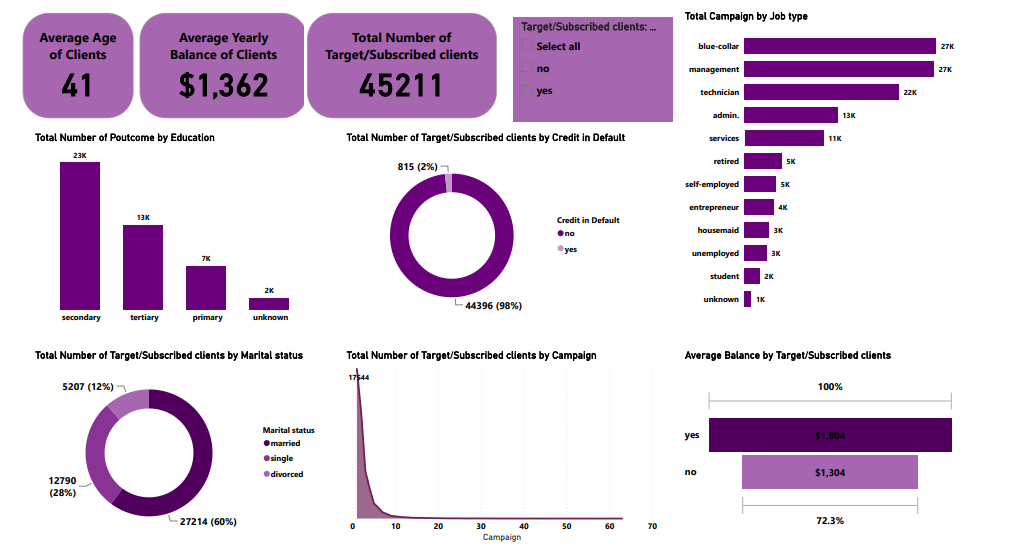

The page's visual inventory and layout, read from the dashboard file:
{"tool":"powerbi","page":{"name":"Page 1","canvas":[1600,900],"ordinal":0},"visuals":[{"type":"cardVisual","fields":{"Data":["Avg(bank-full.Age)"]},"box":[0,11.9,194,185.1],"z":0},{"type":"columnChart","fields":{"Category":["bank-full.Education"],"Y":["CountNonNull(bank-full.Poutcome)"]},"box":[20.9,213.4,477.6,326.9],"z":1000},{"type":"barChart","fields":{"Category":["bank-full.Job"],"Y":["Sum(bank-full.Campaign)"]},"box":[1098.5,11.9,456.7,513.4],"z":2000},{"type":"cardVisual","fields":{"Data":["Avg(bank-full.Balance)"]},"box":[194,11.9,289.6,185.1],"z":3000},{"type":"donutChart","fields":{"Category":["bank-full.Marital status"],"Y":["CountNonNull(bank-full.Y)"]},"box":[20.7,574.1,496.6,325.9],"z":4000},{"type":"stackedAreaChart","fields":{"Category":["bank-full.Campaign"],"Y":["CountNonNull(bank-full.Target/Subscribed clients)"]},"box":[537.3,574.6,526.9,325.4],"z":5000},{"type":"funnel","title":"Average Balance by Target/Subscribed clients","fields":{"Category":["bank-full.Subscribed clients"],"Y":["Avg(bank-full.Balance)"]},"box":[1098.3,574.1,456.9,325.9],"z":6000},{"type":"slicer","fields":{"Values":["bank-full.Subscribed clients"]},"box":[819.4,23.9,264.2,173.1],"z":7000},{"type":"donutChart","fields":{"Category":["bank-full.Credit in Default"],"Y":["CountNonNull(bank-full.Subscribed clients)"]},"box":[537.3,213.4,485.1,326.9],"z":8000},{"type":"cardVisual","fields":{"Data":["bank-full.Measure 2"]},"box":[471.6,11.9,325.4,185.1],"z":9000}]}

Visuals, with their boxes in screenshot pixels (x1, y1, x2, y2), scaled from the page's 1600x900 canvas onto the 1014x554 screenshot:
cardVisual - Avg(bank-full.Age): l=0, t=7, r=123, b=121
columnChart - bank-full.Education x CountNonNull(bank-full.Poutcome): l=13, t=131, r=316, b=333
barChart - bank-full.Job x Sum(bank-full.Campaign): l=696, t=7, r=986, b=323
cardVisual - Avg(bank-full.Balance): l=123, t=7, r=306, b=121
donutChart - bank-full.Marital status x CountNonNull(bank-full.Y): l=13, t=353, r=328, b=553
stackedAreaChart - bank-full.Campaign x CountNonNull(bank-full.Target/Subscribed clients): l=341, t=354, r=674, b=553
"Average Balance by Target/Subscribed clients" funnel: l=696, t=353, r=986, b=553
slicer - bank-full.Subscribed clients: l=519, t=15, r=687, b=121
donutChart - bank-full.Credit in Default x CountNonNull(bank-full.Subscribed clients): l=341, t=131, r=648, b=333
cardVisual - bank-full.Measure 2: l=299, t=7, r=505, b=121
